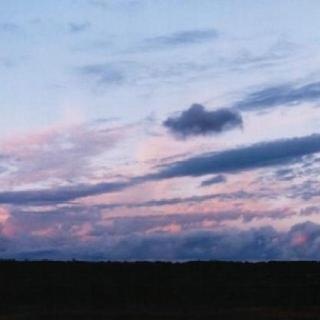Stratus: (0, 0, 320, 262)
